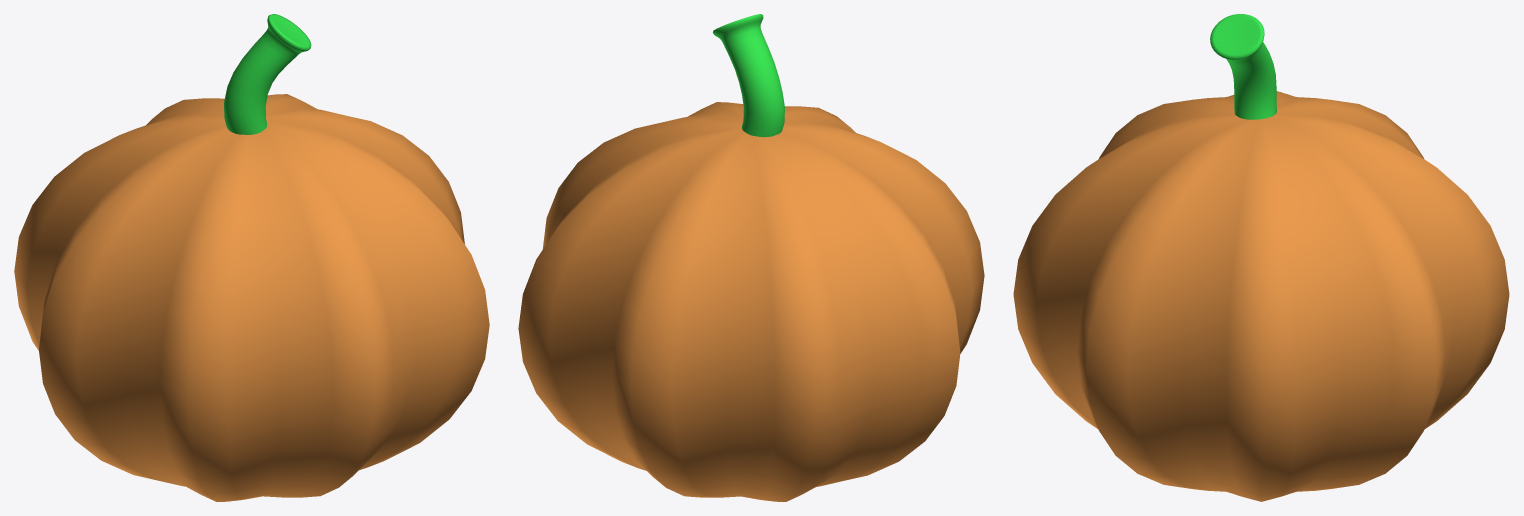
File: Pumkin.fbx
3 views of the same model, side by side, from view 1: azimuth 30°, elevation 25°; view 2: azimuth 150°, elevation 25°; view 3: azimuth 270°, elevation 25° (orthographic). The views are drawn at different scales.
Visible parts, largest first — view 1: Sphere, Cylinder; view 2: Sphere, Cylinder; view 3: Sphere, Cylinder.
Boxes of the visible parts, x1,y1,x2,y2 form: Sphere: (14,94,489,501); Cylinder: (224,14,311,134); Sphere: (518,102,984,501); Cylinder: (713,14,784,137); Sphere: (1013,91,1509,501); Cylinder: (1210,14,1276,119).
Bounding box in the file's own units: 178 × 185 × 178.
